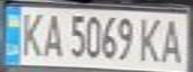0: (81, 12, 103, 60)
5: (63, 11, 87, 58)
6: (100, 12, 121, 61)
9: (115, 14, 139, 62)
A: (157, 15, 187, 65), (39, 10, 66, 58)
K: (15, 8, 45, 59), (136, 15, 166, 64)
